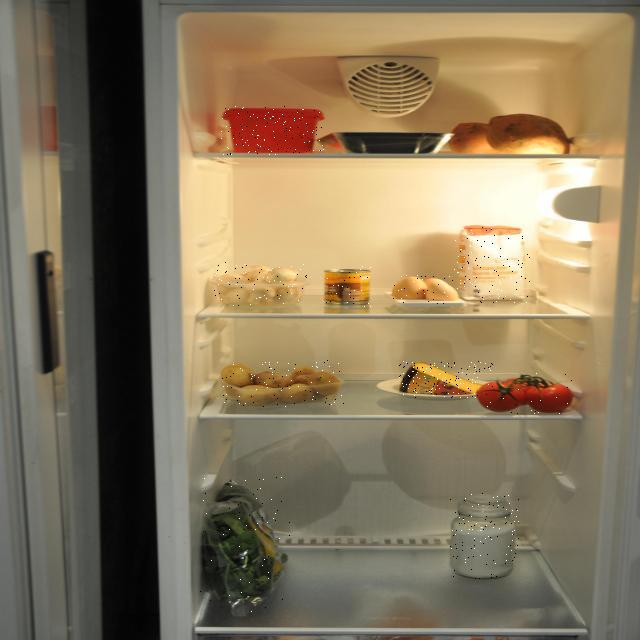butter: (221, 106, 325, 155)
cheese: (400, 361, 496, 398)
corn: (324, 266, 373, 308)
eggs: (393, 275, 461, 305)
mushrooms: (214, 262, 307, 306)
potato: (221, 360, 344, 408)
spinach: (199, 477, 290, 618)
sugar: (450, 493, 519, 580), (454, 226, 530, 303)
sweet_potato: (444, 111, 574, 156)
tomato: (478, 372, 573, 414)
